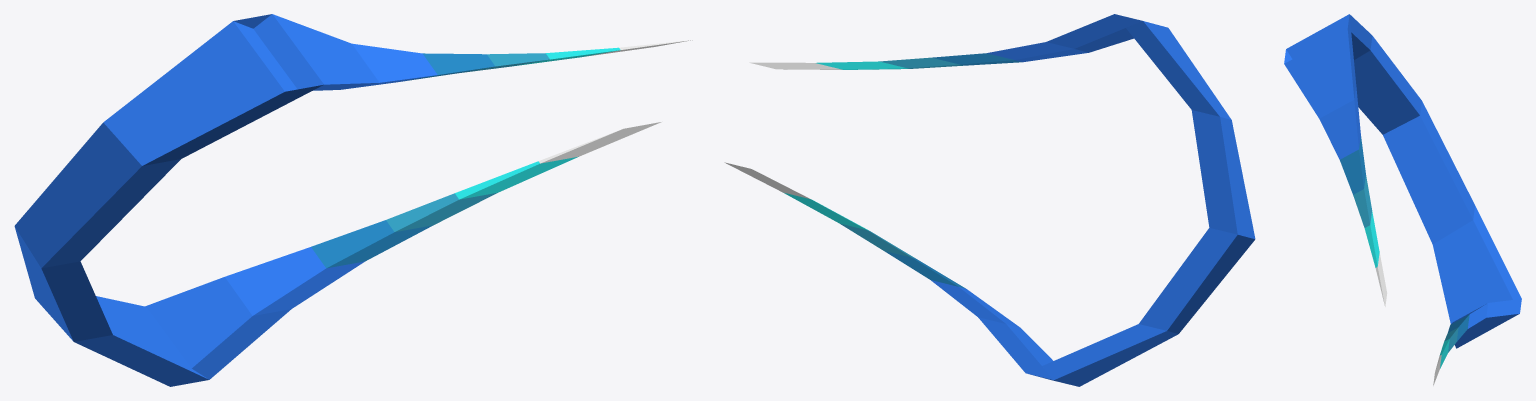
Rendered from MON01PJ.fbx.
3 renders of one model, left to right at view 1: azimuth 30°, elevation 25°; view 2: azimuth 150°, elevation 25°; view 3: azimuth 270°, elevation 25°, orthographic. The views are drawn at different scales.
Visible parts, largest first — view 1: Sphere.002; view 2: Sphere.002; view 3: Sphere.002.
Part boxes in pixels (<box>): Sphere.002: <box>14,14,692,386</box>; Sphere.002: <box>724,14,1255,386</box>; Sphere.002: <box>1284,14,1521,385</box>.
Bounding box in the file's own units: 12297 × 7573 × 5142.
